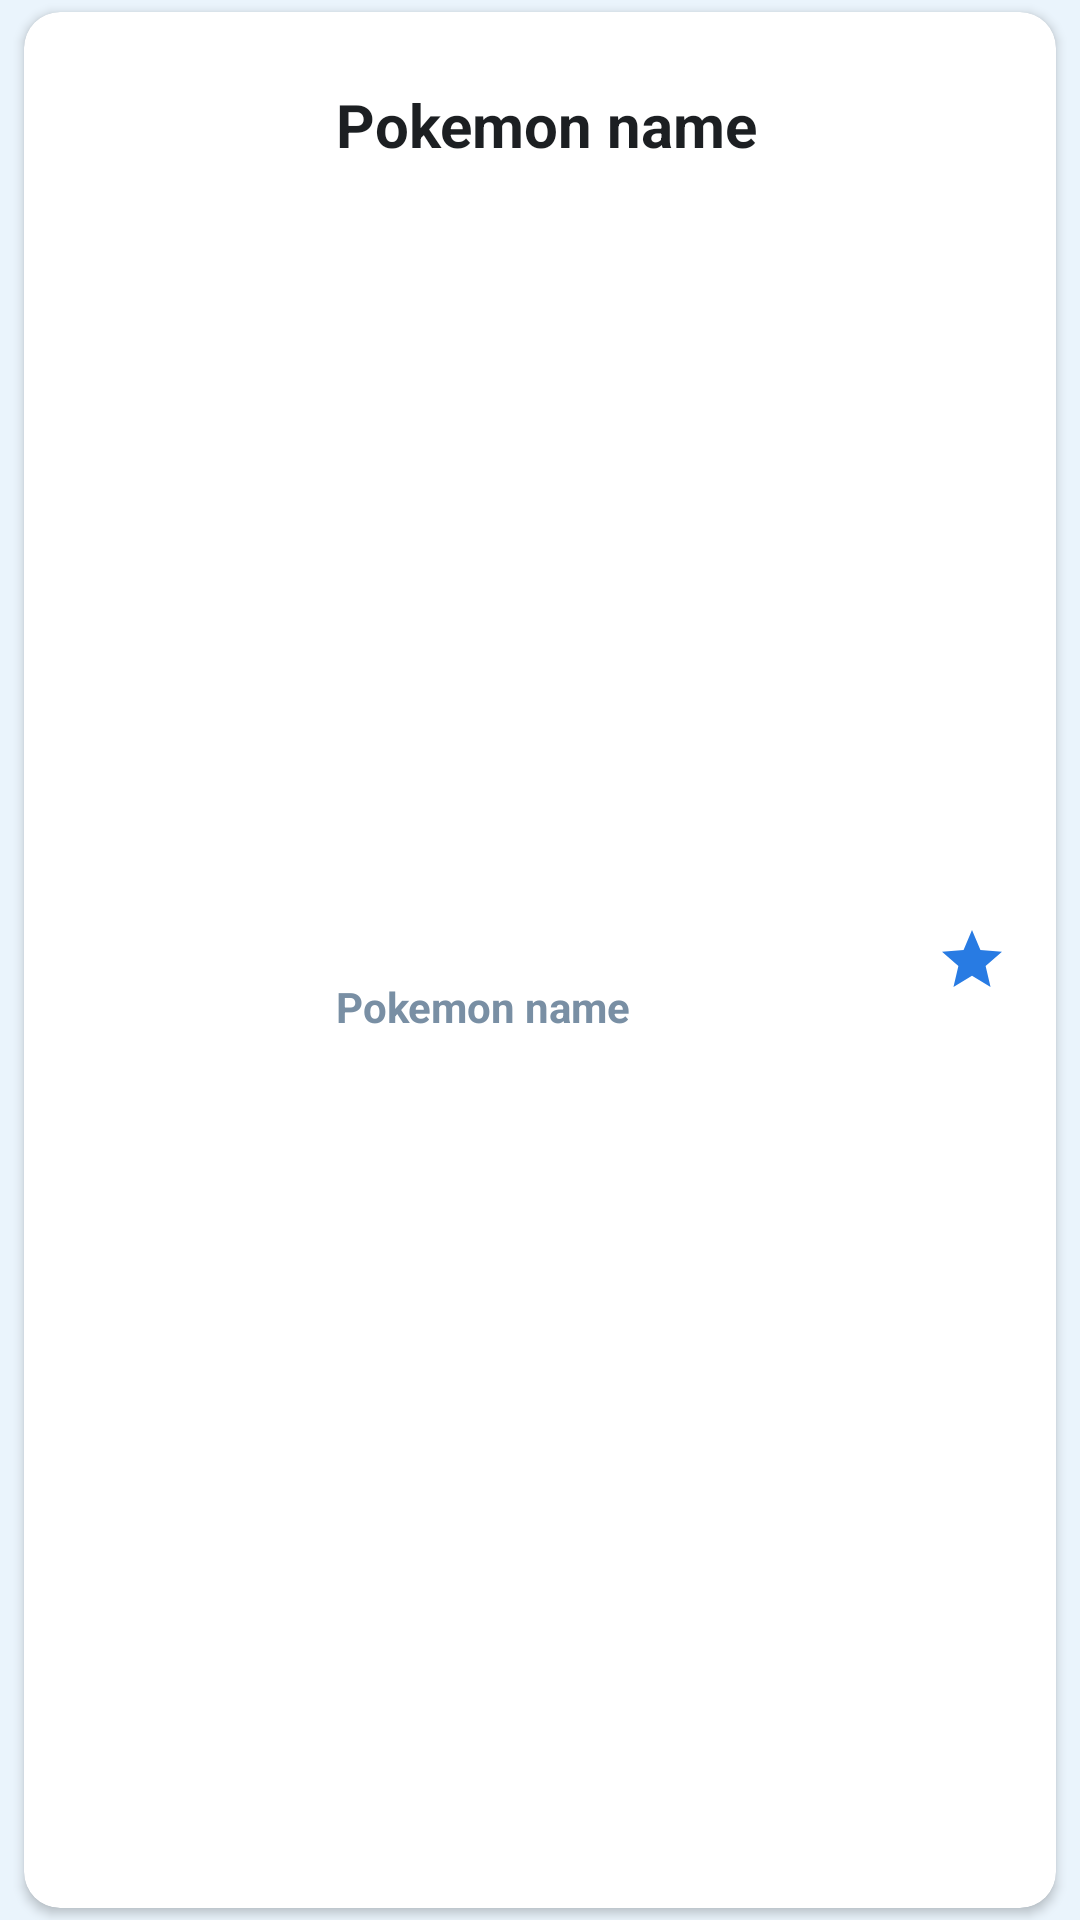

Locate icon controls on the screen. Image size 1080×1920, boxes as (x1, y1, x2, y2).
is it favourite: (942, 930, 1002, 987)
